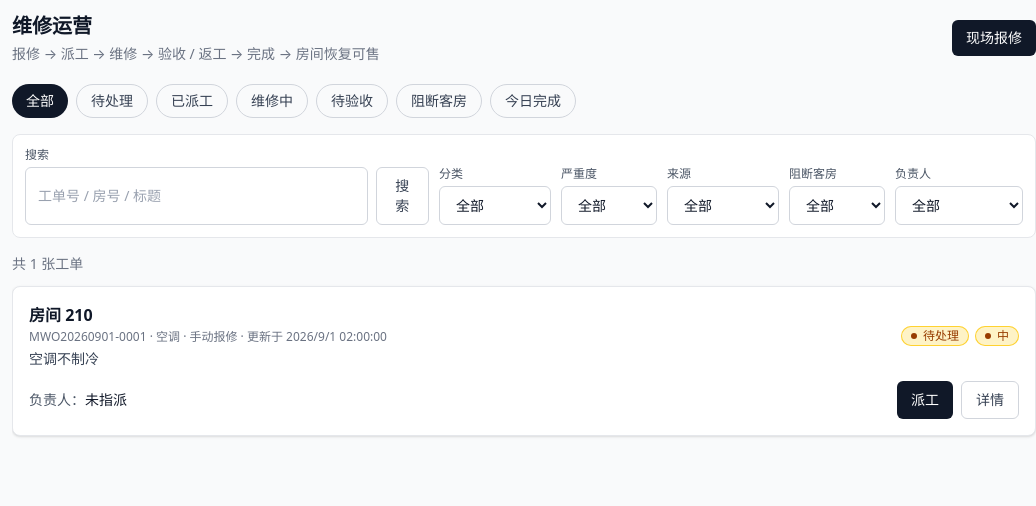
Test: MaintenanceWorkspaceView › OPEN + write → 派工（未选负责人提示，选择后调 assign）
Expected: the link "房间 210" is shown, [29,304,93,326]
// 未选负责人：提示不调用
Step 1. Click the button "派工" → (925,400), box [897,381,953,419]
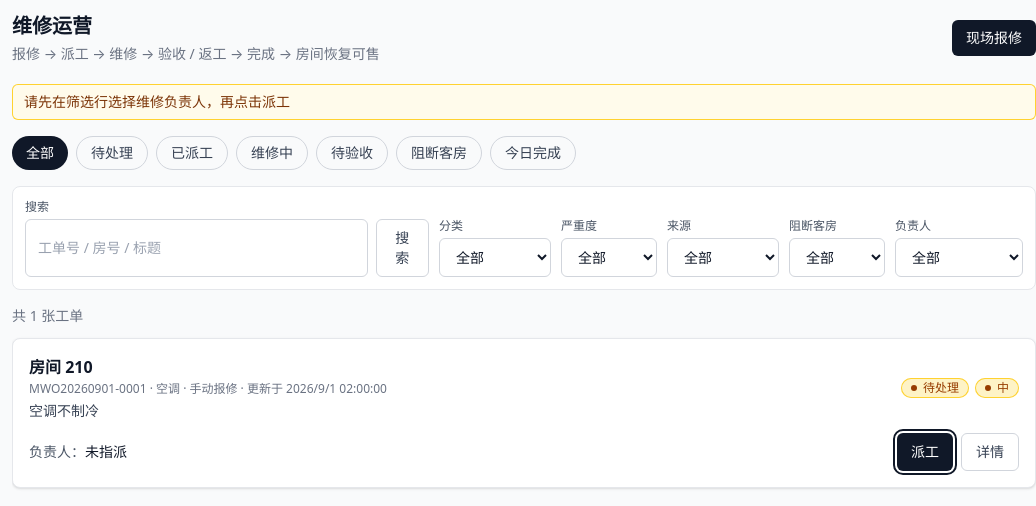
Result: the text "请先在筛选行选择维修负责人，再点击派工" is shown at [12,84,1035,120]
Step 2. Select "维修老张" in the dropdown named "负责人筛选" → (959,258), box [895,238,1023,277]
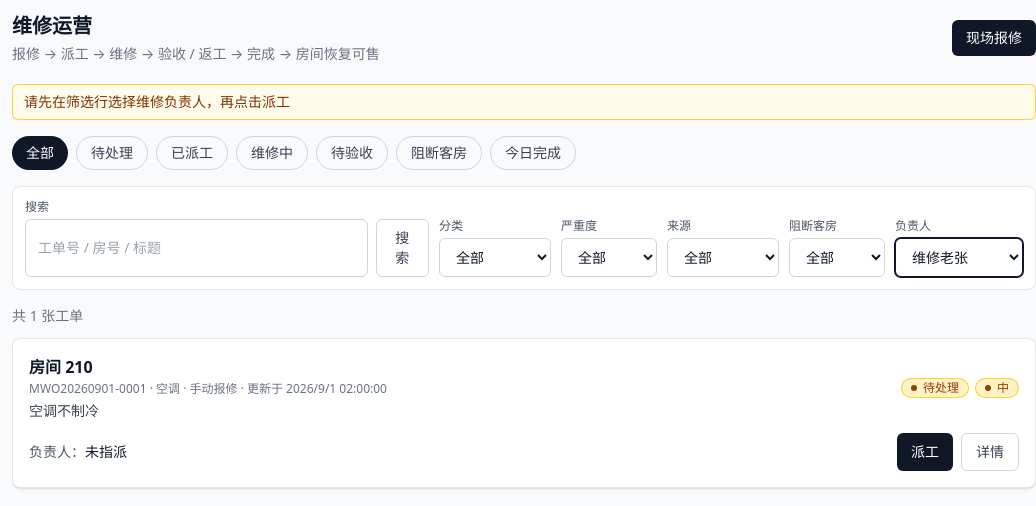
Step 3. Click the button "派工" → (925,452), box [897,433,953,471]
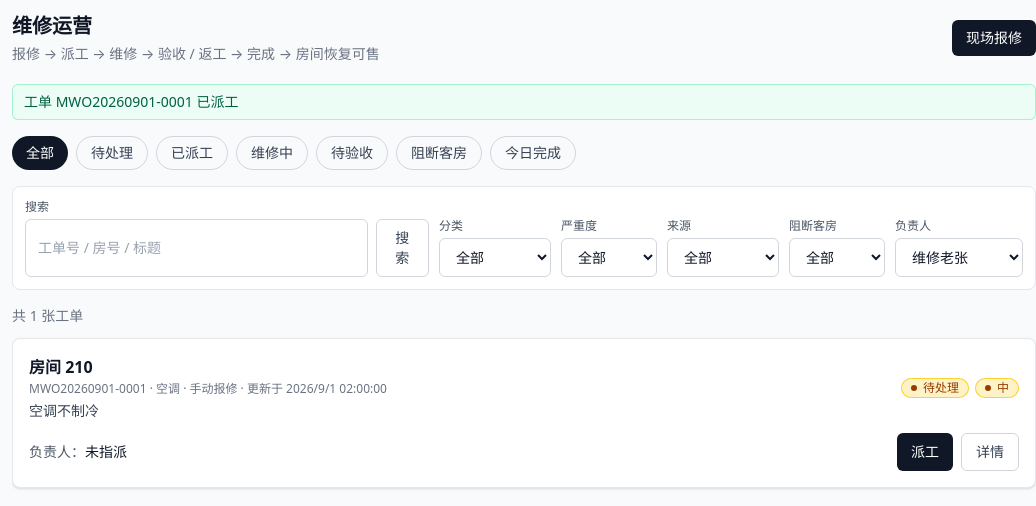
Result: the text "工单 MWO20260901-0001 已派工" is shown at [12,84,1035,120]
